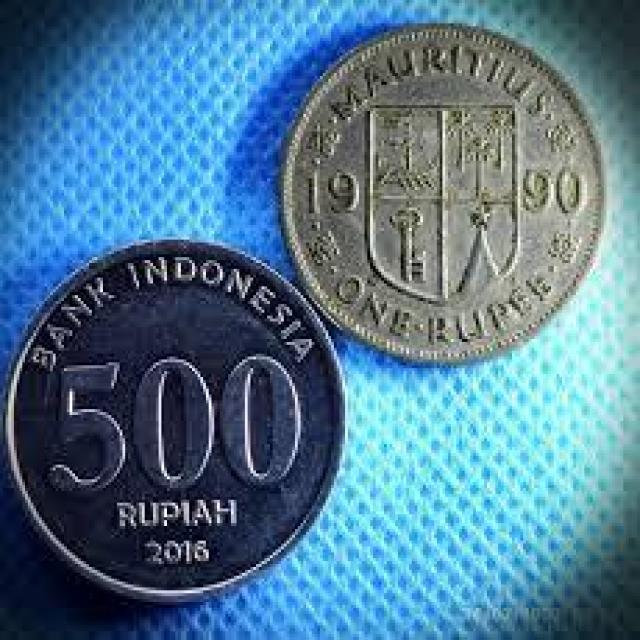500-silver: (2, 232, 352, 608)
